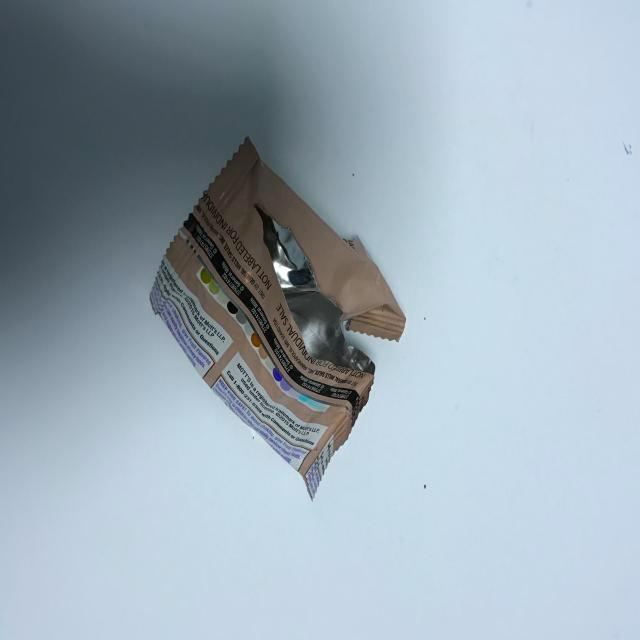plastic: (140, 128, 432, 559)
